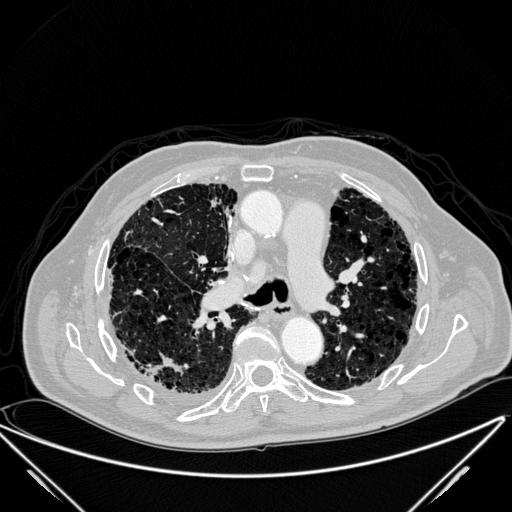nodule: (155, 353, 181, 379)
